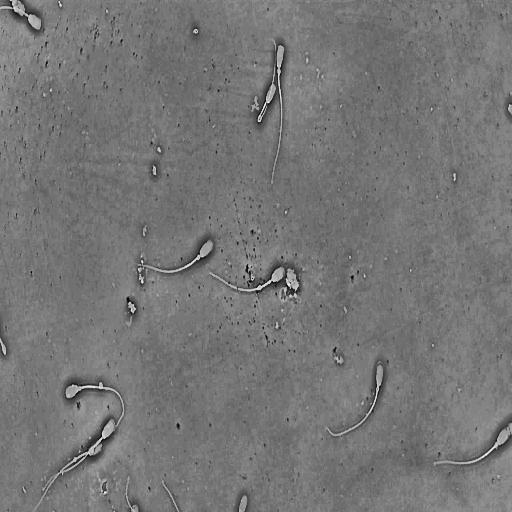dirt-particles: (285, 265, 301, 294), (125, 298, 138, 319), (138, 257, 146, 286), (150, 163, 158, 178), (141, 225, 148, 237)
distal-droplet: (73, 456, 77, 463), (258, 285, 262, 290)
folded-tail: (257, 38, 276, 123)
normal: (42, 418, 117, 493), (32, 438, 104, 512), (324, 361, 386, 440), (432, 425, 511, 467), (136, 237, 216, 275), (64, 382, 125, 428), (208, 264, 287, 294), (270, 42, 285, 185), (256, 36, 277, 124)
proximal-droplet: (277, 67, 281, 76), (77, 385, 82, 391), (494, 442, 498, 449), (376, 384, 379, 392), (197, 254, 201, 260)
